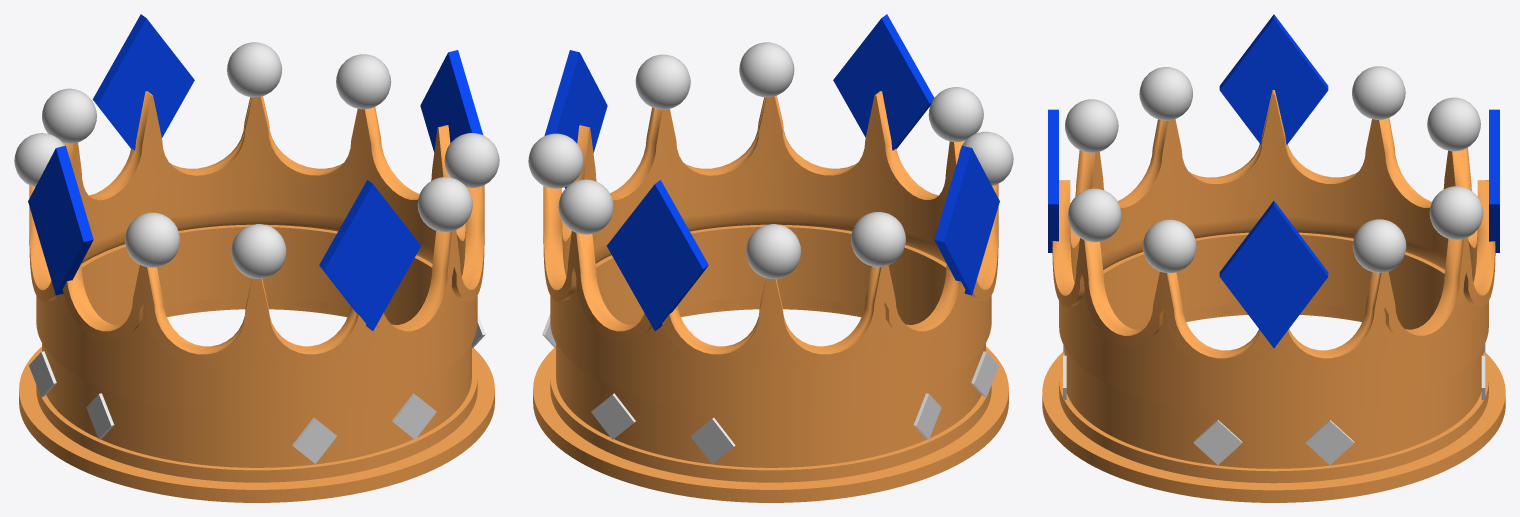
The model's file is crown.glb.
3 renders of one model, left to right at view 1: azimuth 30°, elevation 25°; view 2: azimuth 150°, elevation 25°; view 3: azimuth 270°, elevation 25°, orthographic. The views are drawn at different scales.
Visible parts, largest first — view 1: Cylinder, Plane.010, Plane.008, Plane.011, Plane.009, Sphere.005, Sphere.001, Sphere.006, Sphere.007, Sphere, Sphere.002, Sphere.004 (+5 smaller); view 2: Cylinder, Plane.008, Plane.010, Plane.011, Plane.009, Sphere.005, Sphere.007, Sphere.004, Sphere.006, Sphere.003, Sphere.002, Sphere (+5 smaller); view 3: Cylinder, Plane.009, Plane.011, Sphere.002, Sphere.006, Sphere.007, Sphere, Sphere.001, Sphere.005, Sphere.003, Sphere.004, Plane.008 (+3 smaller).
Part boxes in pixels (<box>): Cylinder: <box>19,91,494,502</box>; Plane.010: <box>319,180,420,330</box>; Plane.008: <box>92,14,194,150</box>; Plane.011: <box>28,145,93,295</box>; Plane.009: <box>420,50,482,152</box>; Sphere.005: <box>417,177,472,232</box>; Sphere.001: <box>125,212,180,267</box>; Sphere.006: <box>336,54,391,109</box>; Sphere.007: <box>227,42,282,97</box>; Sphere: <box>231,224,286,278</box>; Sphere.002: <box>42,88,96,143</box>; Sphere.004: <box>444,133,499,187</box>; Cylinder: <box>533,91,1008,502</box>; Plane.008: <box>607,180,708,330</box>; Plane.010: <box>833,14,934,150</box>; Plane.011: <box>934,145,999,295</box>; Plane.009: <box>544,50,607,188</box>; Sphere.005: <box>739,42,794,97</box>; Sphere.007: <box>558,179,613,234</box>; Sphere.004: <box>635,54,690,109</box>; Sphere.006: <box>528,133,583,188</box>; Sphere.003: <box>851,212,905,266</box>; Sphere.002: <box>746,224,801,278</box>; Sphere: <box>928,87,983,142</box>; Cylinder: <box>1042,90,1505,502</box>; Plane.009: <box>1219,201,1328,348</box>; Plane.011: <box>1219,14,1328,144</box>; Sphere.002: <box>1427,97,1480,151</box>; Sphere.006: <box>1352,219,1406,272</box>; Sphere.007: <box>1429,186,1483,239</box>; Sphere: <box>1065,99,1118,152</box>; Sphere.001: <box>1139,67,1192,120</box>; Sphere.005: <box>1068,188,1121,242</box>; Sphere.003: <box>1352,66,1405,119</box>; Sphere.004: <box>1142,219,1196,273</box>; Plane.008: <box>1489,109,1499,252</box>.
Size of the model in its own units: 8.27 by 5.82 by 8.27.
